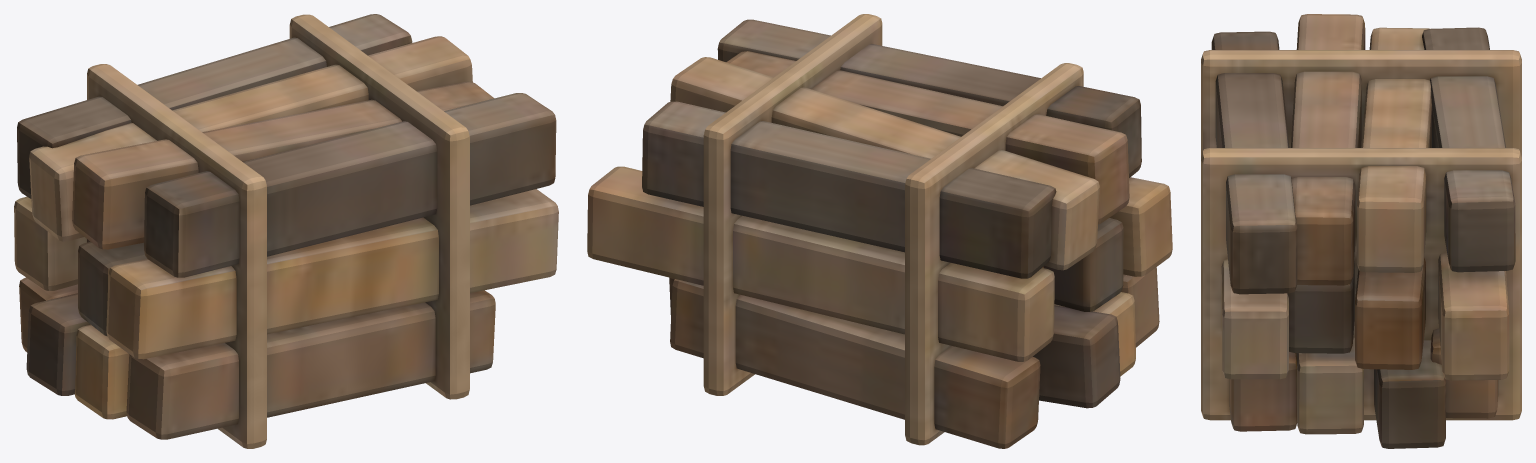
File: bale_wood.glb
The picture shows the model from 3 angles, left to right: view 1: azimuth 30°, elevation 25°; view 2: azimuth 150°, elevation 25°; view 3: azimuth 270°, elevation 25°; orthographic projection.
Parts seen in each view (by area): view 1: BaleWood_Mesh; view 2: BaleWood_Mesh; view 3: BaleWood_Mesh.
Part boxes in pixels (x1=…): BaleWood_Mesh: x1=14, y1=14, x2=558, y2=448; BaleWood_Mesh: x1=587, y1=14, x2=1172, y2=448; BaleWood_Mesh: x1=1201, y1=14, x2=1521, y2=448.
Size of the model in its own units: 0.5971 by 0.33 by 0.36.
1 material, 1 textured.
